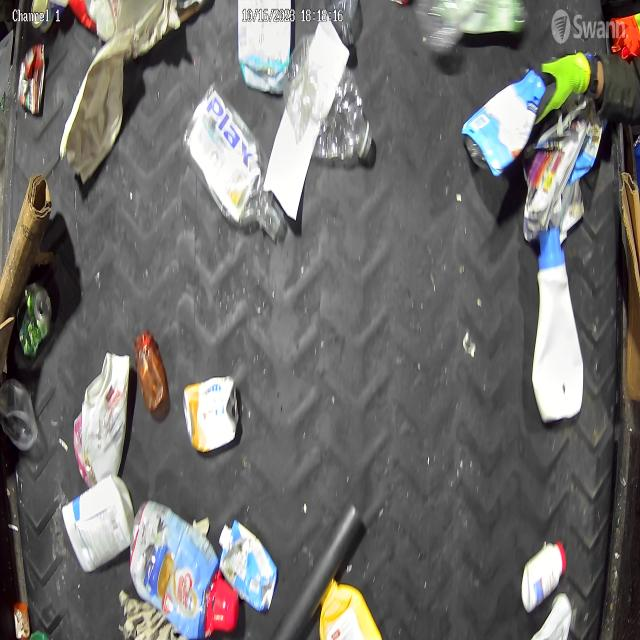can: (183, 376, 239, 451), (15, 281, 53, 358), (17, 43, 47, 116), (30, 0, 56, 34)
milk_jug: (73, 349, 131, 489), (62, 474, 134, 572), (237, 0, 293, 95)
non_white_jug: (129, 500, 241, 639), (460, 68, 546, 177), (218, 520, 279, 612), (318, 578, 384, 640)
plastic_bottle: (183, 81, 286, 243), (285, 34, 374, 162)
